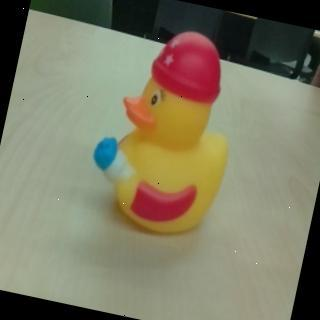duck_specialty: (79, 14, 254, 246)
